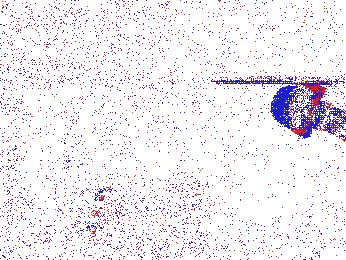flame jellyfish: (272, 84, 346, 142), (48, 184, 93, 232), (85, 186, 128, 226)
